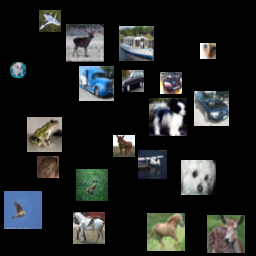airplane: (42, 114, 80, 152), (7, 157, 45, 195), (179, 43, 214, 78), (167, 180, 186, 199)
automobile: (213, 209, 242, 238), (50, 5, 76, 31)
bird: (172, 144, 201, 173)
cat: (16, 52, 51, 87), (142, 9, 174, 41), (194, 99, 223, 128)
deer: (180, 3, 202, 25)
dog: (102, 170, 131, 199), (93, 117, 115, 139)
frog: (61, 212, 83, 234)
ship: (131, 117, 153, 139), (57, 36, 76, 55)
